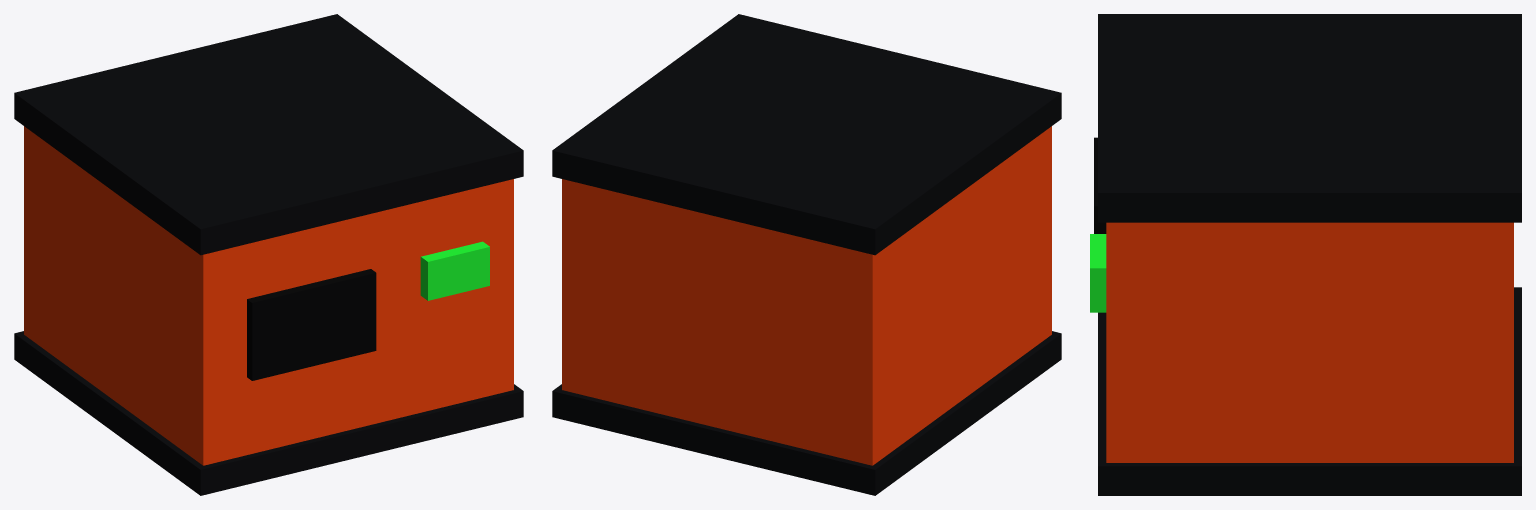
Rendered from crate_small.obj.
3 renders of one model, left to right at view 1: azimuth 30°, elevation 25°; view 2: azimuth 150°, elevation 25°; view 3: azimuth 270°, elevation 25°, orthographic. The views are drawn at different scales.
Visible parts, largest first — view 1: crate_small; view 2: crate_small; view 3: crate_small.
Part boxes in pixels (x1=…): crate_small: x1=14, y1=14, x2=523, y2=495; crate_small: x1=552, y1=14, x2=1061, y2=495; crate_small: x1=1090, y1=14, x2=1521, y2=495.
Bounding box in the file's own units: 0.52 × 0.41 × 0.53.
